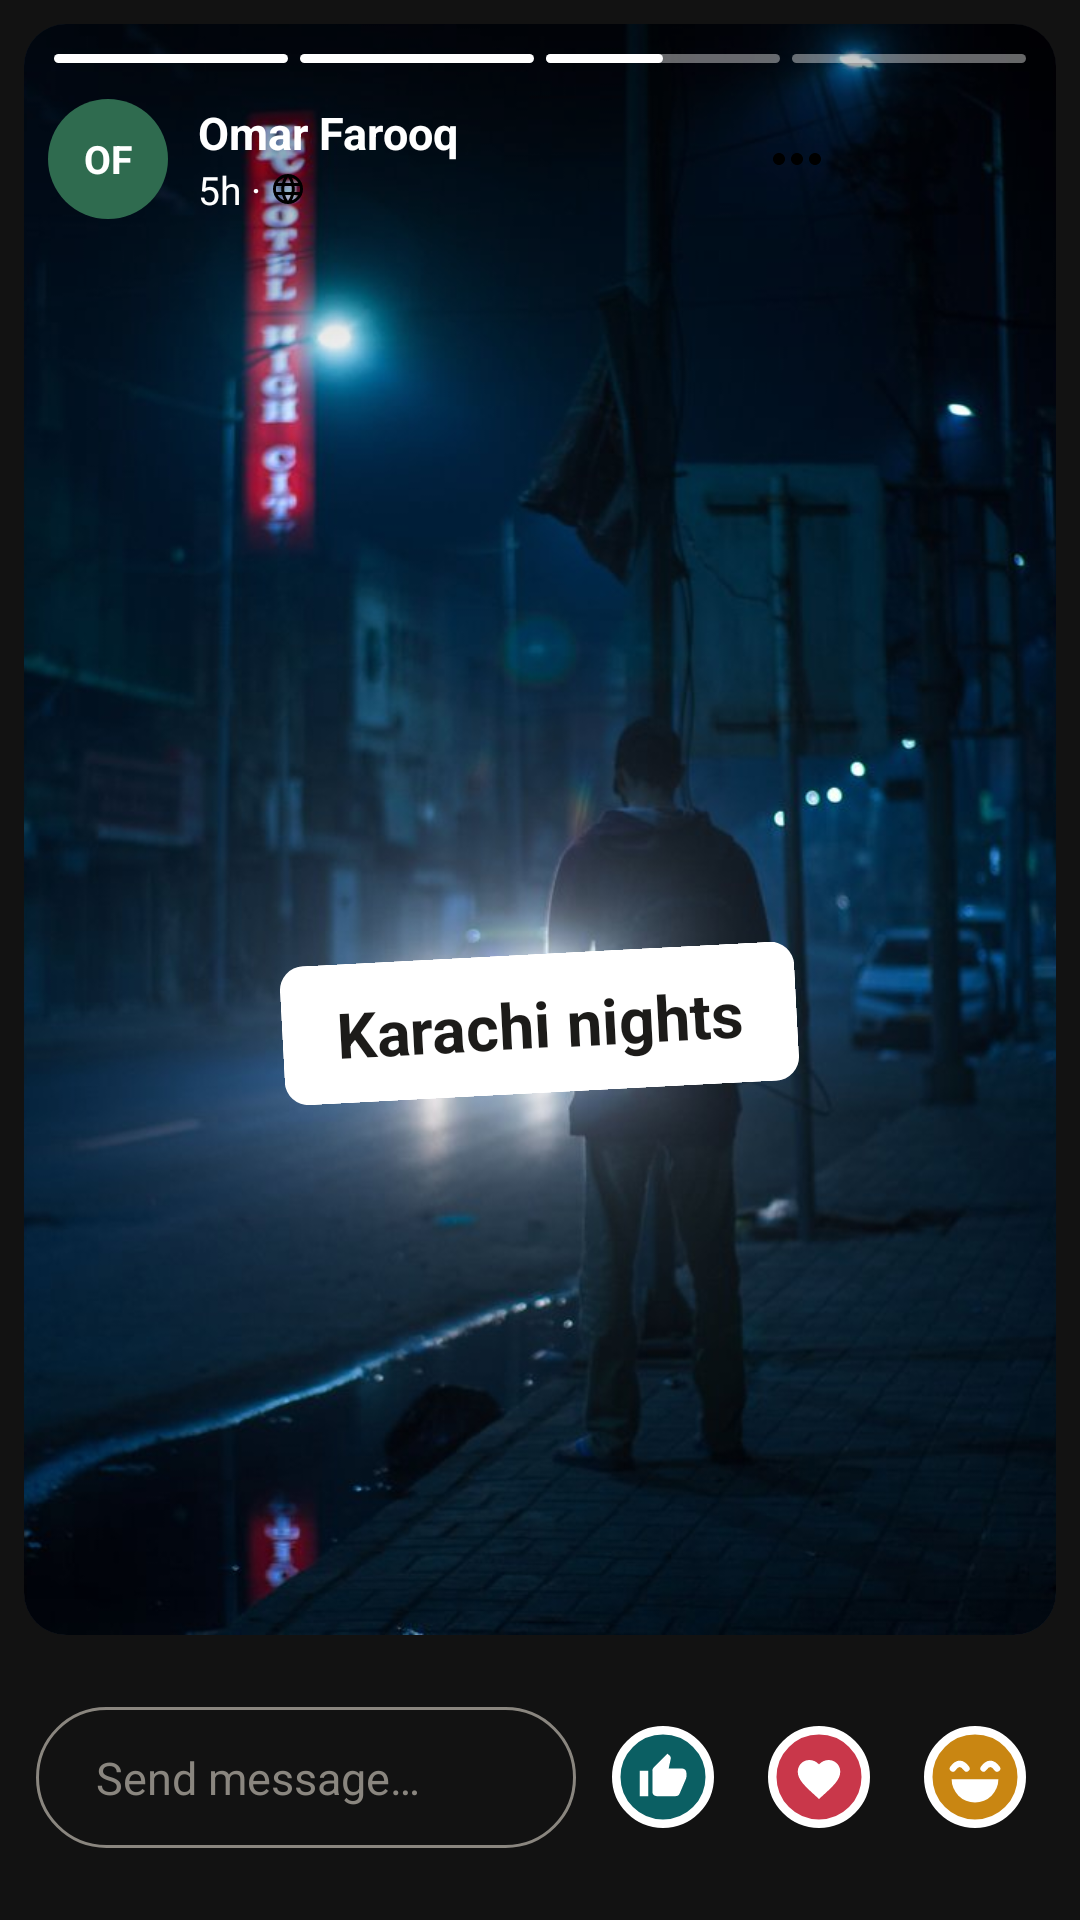

Icon click points for this 1080 × 1920 phone screenshot, format point (x, y):
Haha: point (975, 1777)
Like: point (663, 1777)
Love: point (819, 1777)
More options: point (797, 159)
Public: point (288, 189)
